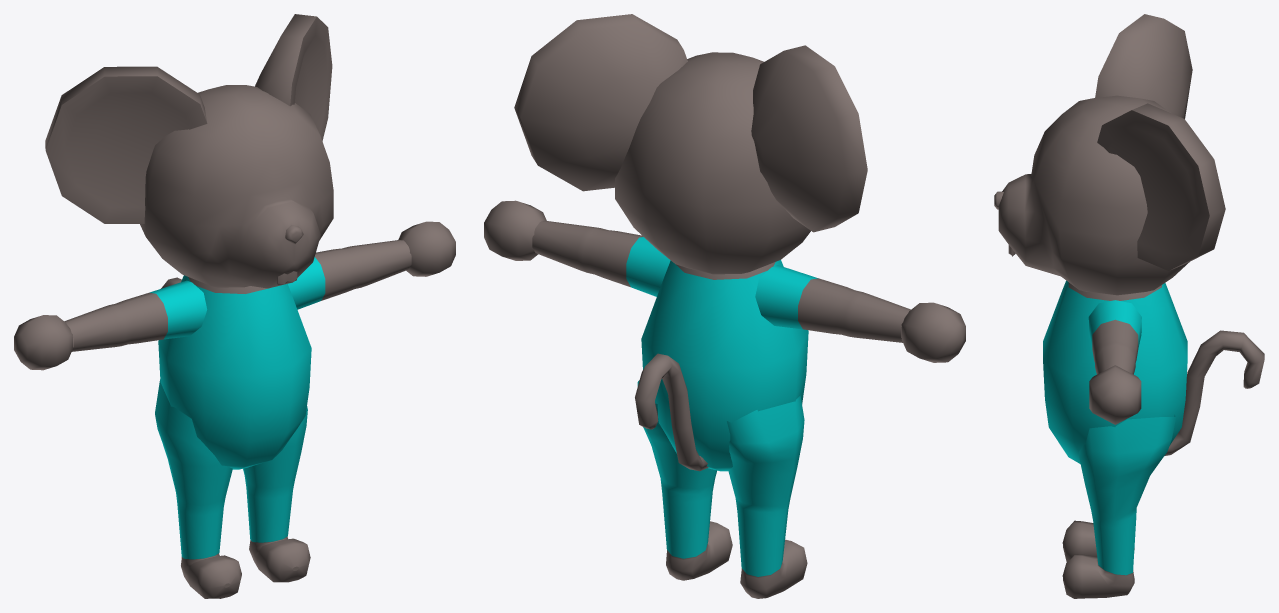
The model's file is Millie_Mouse.fbx.
3 renders of one model, left to right at view 1: azimuth 30°, elevation 25°; view 2: azimuth 150°, elevation 25°; view 3: azimuth 270°, elevation 25°, orthographic. The views are drawn at different scales.
Visible parts, largest first — view 1: Squireel_Geo; view 2: Squireel_Geo; view 3: Squireel_Geo.
Part boxes in pixels (bbox=[...]): Squireel_Geo: bbox=[14, 14, 455, 598]; Squireel_Geo: bbox=[484, 14, 965, 598]; Squireel_Geo: bbox=[994, 14, 1264, 598].
Size of the model in its own units: 7.05 by 7.95 by 3.85.
